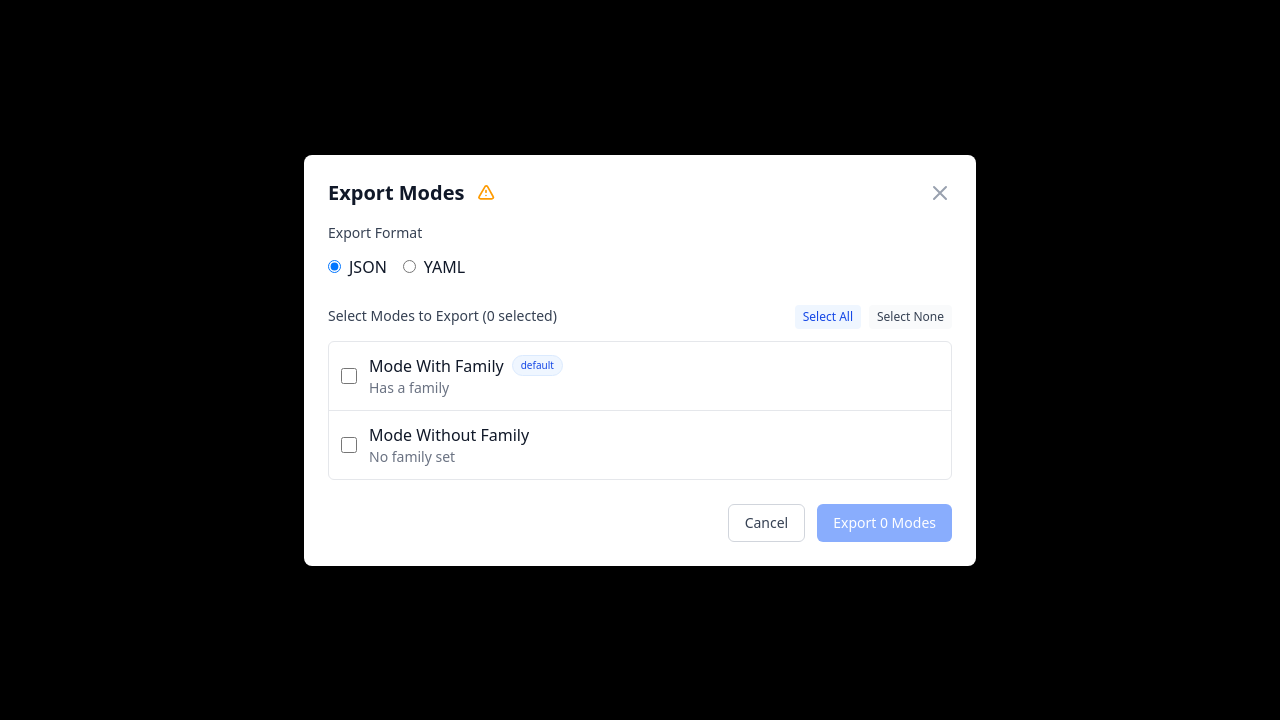
Test: ExportModal - family badges › renders a family badge next to modes that have a family
Expected: the text "default" is shown, [512,355,563,376]
Expected: the checkbox labelled "Mode With Family default Has a family" is not checked, [341,368,357,384]
Click the text "Mode With Family" at (436, 366), box [369,354,504,378]
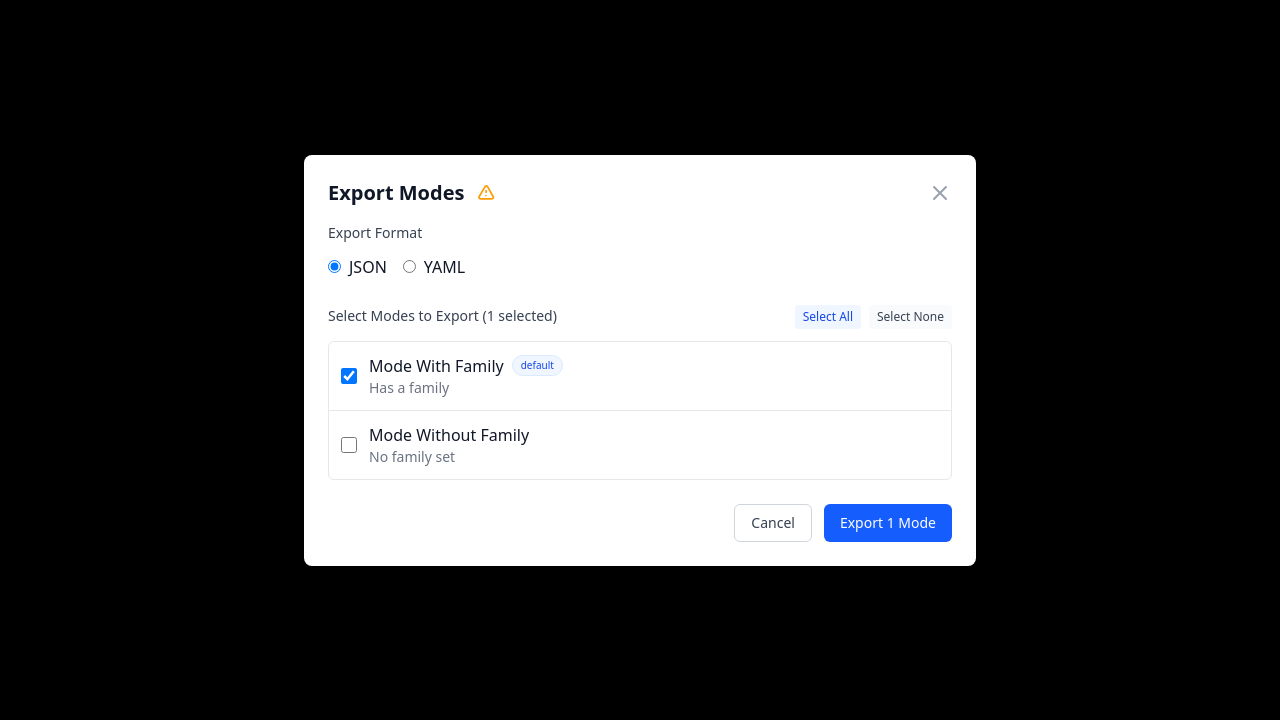
Now the checkbox labelled "Mode With Family default Has a family" is checked, box [341,368,357,384]
